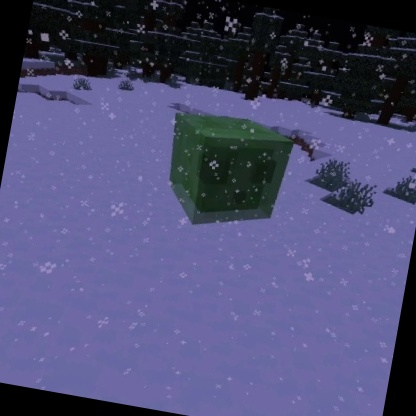slime: (155, 104, 300, 242)
